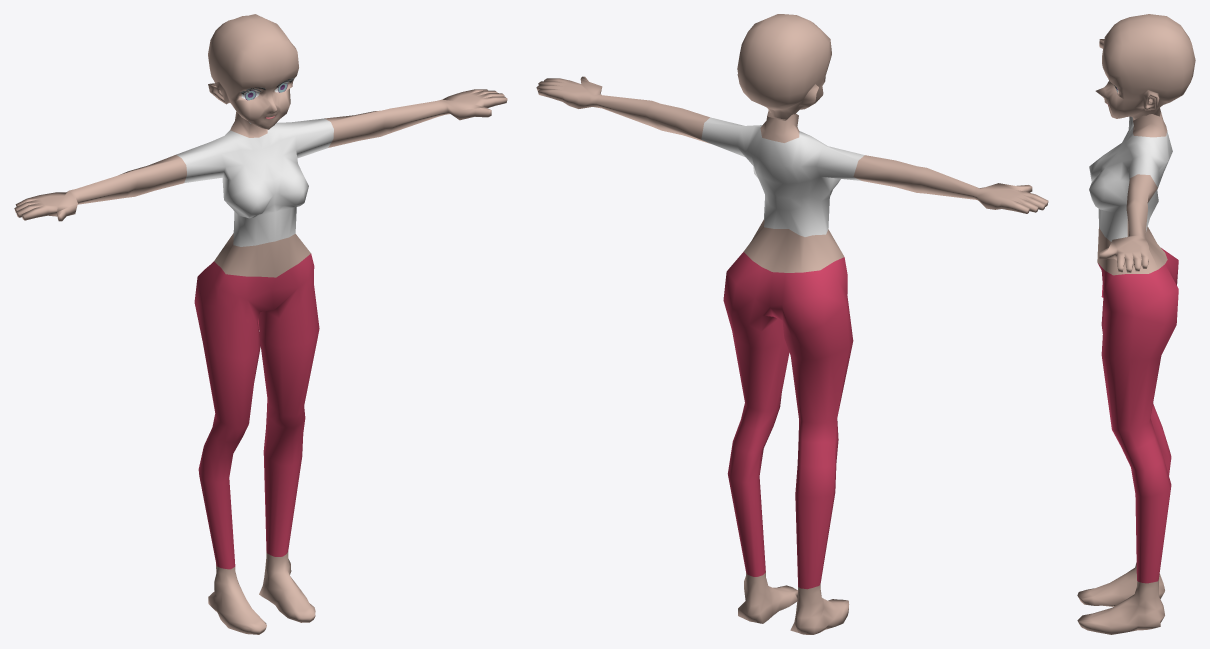
Rendered from ANIM_LITE.fbx.
3 views of the same model, side by side, from view 1: azimuth 30°, elevation 25°; view 2: azimuth 150°, elevation 25°; view 3: azimuth 270°, elevation 25° (orthographic). The views are drawn at different scales.
Visible parts, largest first — view 1: CABECA_ZE; view 2: CABECA_ZE; view 3: CABECA_ZE.
Boxes of the visible parts, x1,y1,x2,y2 form: CABECA_ZE: (14,14,507,634); CABECA_ZE: (536,14,1048,634); CABECA_ZE: (1077,14,1195,634).
Size of the model in its own units: 130 by 150 by 27.
